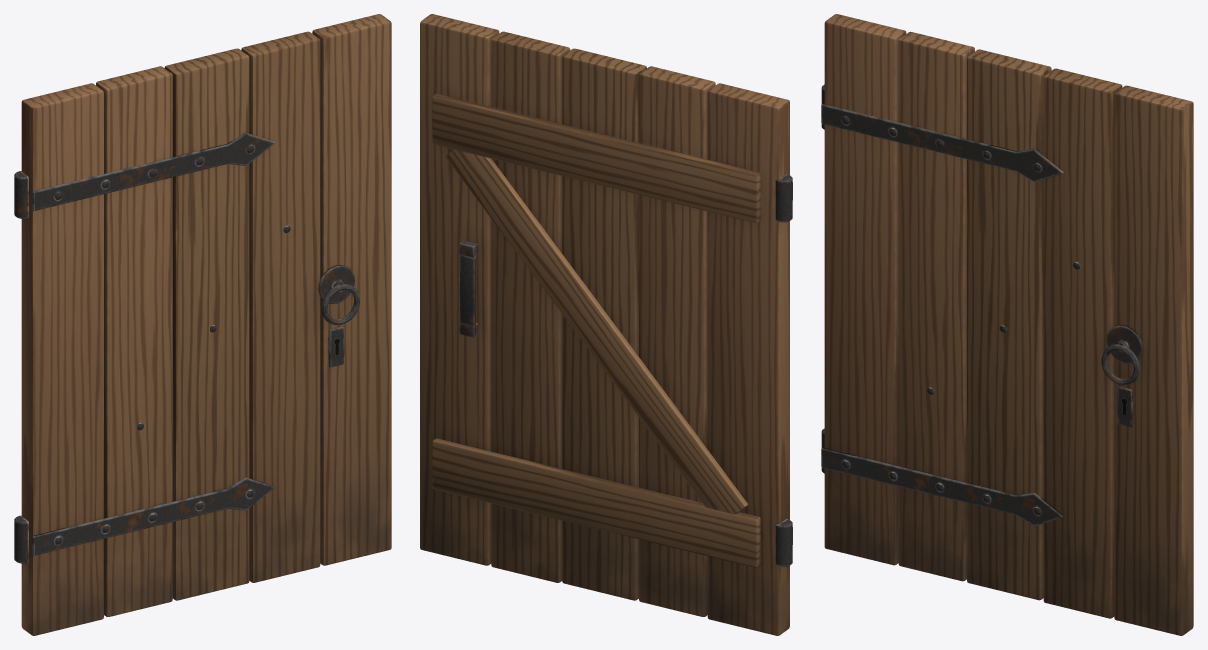
Rendered from door_wood.glb.
The picture shows the model from 3 angles, left to right: view 1: azimuth 30°, elevation 25°; view 2: azimuth 150°, elevation 25°; view 3: azimuth 330°, elevation 25°; orthographic projection.
Visible parts, largest first — view 1: door_wood; view 2: door_wood; view 3: door_wood.
Part boxes in pixels (x1=…): door_wood: x1=14, y1=14, x2=391, y2=635; door_wood: x1=420, y1=14, x2=792, y2=635; door_wood: x1=821, y1=14, x2=1193, y2=635.
Size of the model in its own units: 1.02 by 1.4 by 0.1335.
1 material, 1 textured.
